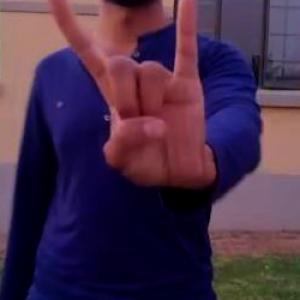takeoff-hand: (42, 0, 198, 189)
